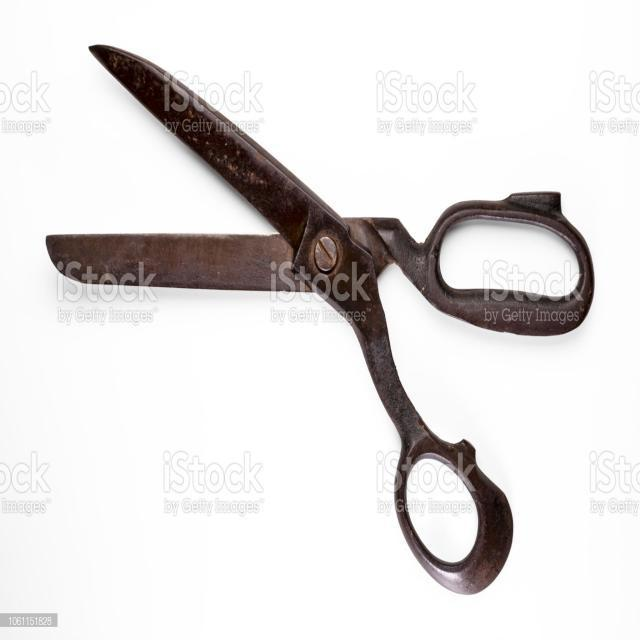Gunting: (45, 46, 592, 594)
